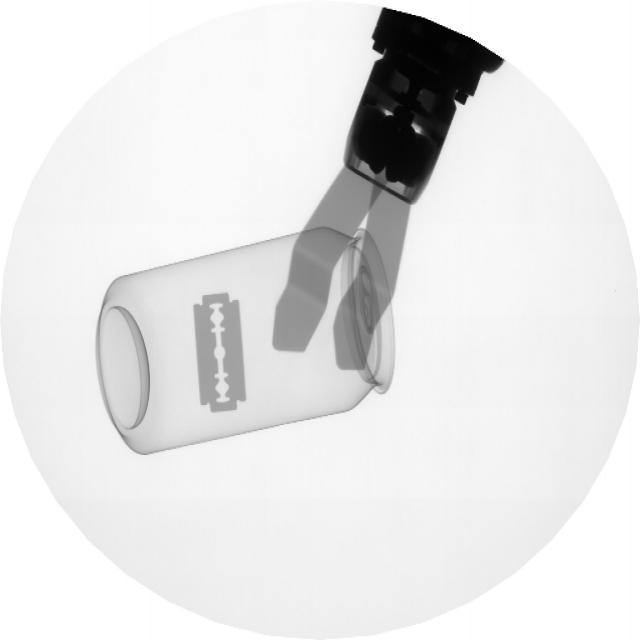BLADE: (186, 283, 256, 424)
